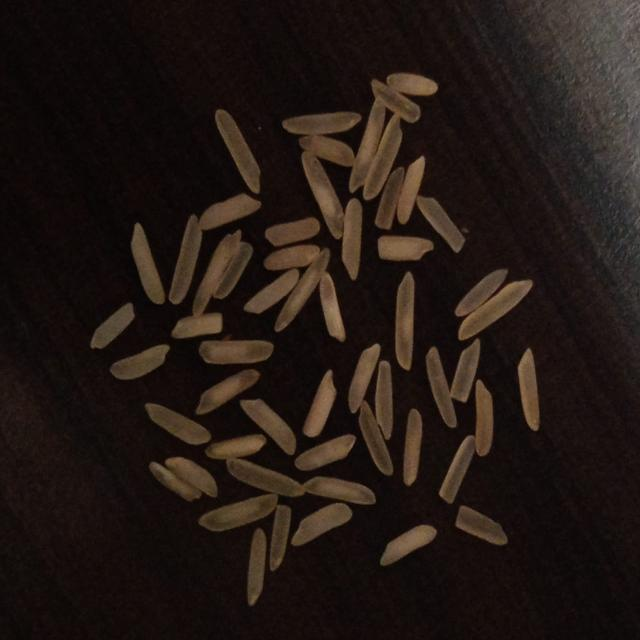Broken: (417, 196, 466, 253), (439, 435, 476, 504), (302, 369, 337, 438), (213, 243, 254, 300), (455, 505, 508, 547), (371, 79, 422, 122), (90, 304, 135, 350), (374, 165, 405, 229), (450, 338, 480, 404), (264, 216, 321, 246), (270, 504, 292, 572), (379, 235, 435, 261), (171, 312, 223, 337)
Full: (272, 245, 329, 331), (457, 279, 533, 341), (193, 230, 242, 320), (215, 110, 262, 195), (349, 98, 388, 194), (302, 151, 344, 239), (364, 114, 404, 202), (240, 399, 298, 456), (168, 214, 204, 304), (228, 458, 307, 499), (200, 495, 280, 533), (195, 369, 260, 415), (130, 224, 166, 306), (146, 403, 212, 445), (358, 400, 394, 476), (291, 503, 354, 546), (453, 268, 508, 317), (244, 268, 302, 314), (426, 346, 458, 428), (197, 193, 262, 231), (379, 525, 437, 566), (347, 342, 380, 413), (148, 461, 202, 503), (294, 435, 356, 471), (110, 344, 170, 381), (165, 457, 219, 498), (302, 477, 376, 506), (318, 272, 346, 343), (398, 154, 426, 224), (282, 111, 363, 135), (396, 270, 415, 370), (298, 136, 356, 168), (518, 348, 540, 431), (200, 340, 276, 364), (342, 195, 363, 279), (403, 408, 424, 488), (246, 528, 267, 606), (262, 243, 320, 270), (475, 379, 495, 457), (375, 360, 394, 442), (206, 435, 268, 460), (386, 72, 438, 95)
